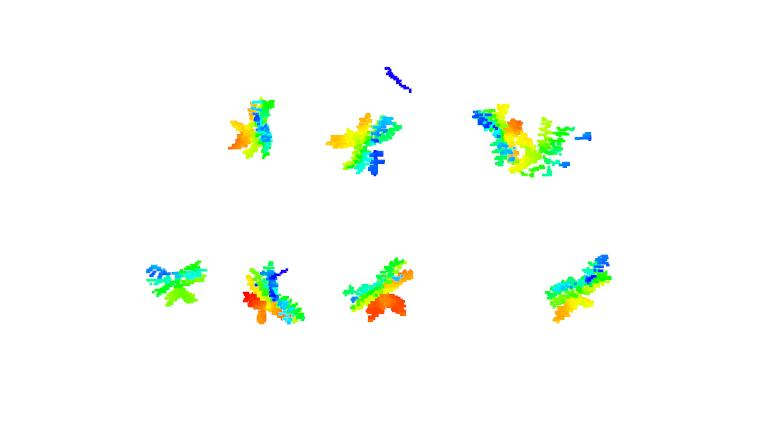chickpea: (326, 111, 405, 177), (343, 256, 415, 327), (544, 253, 614, 324), (242, 261, 308, 329), (508, 114, 577, 179), (472, 103, 524, 172), (142, 258, 210, 308), (229, 97, 279, 161)
